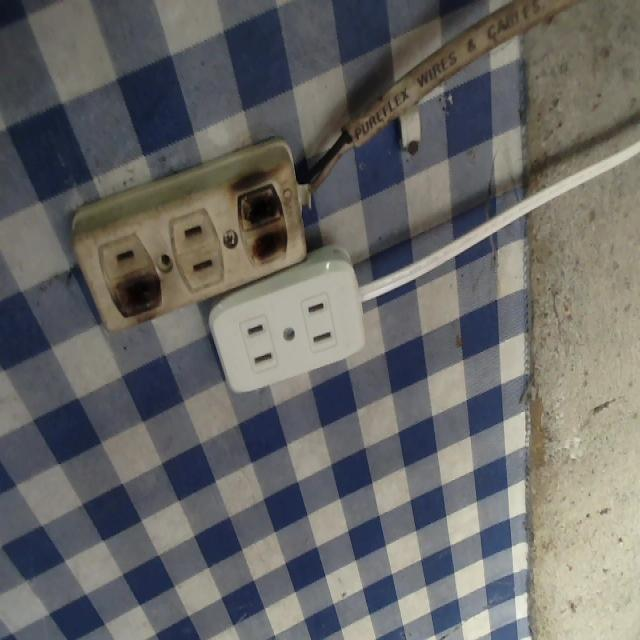-: (234, 180, 297, 263), (99, 271, 169, 317)
